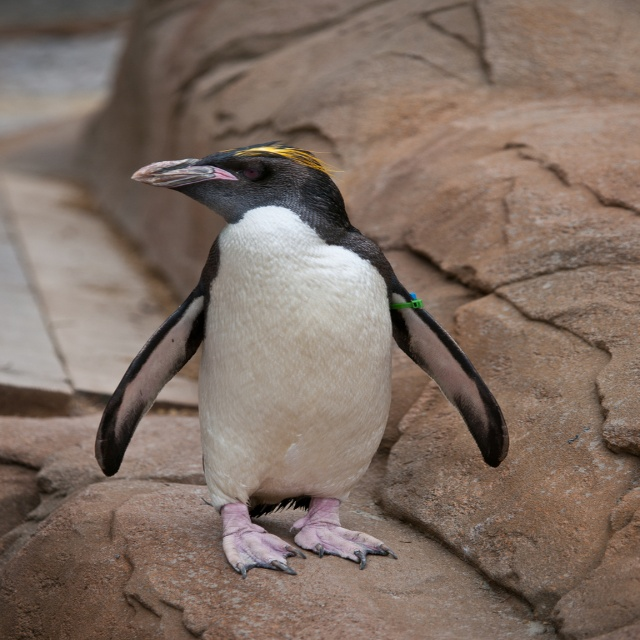Penguin: (92, 142, 510, 568)
